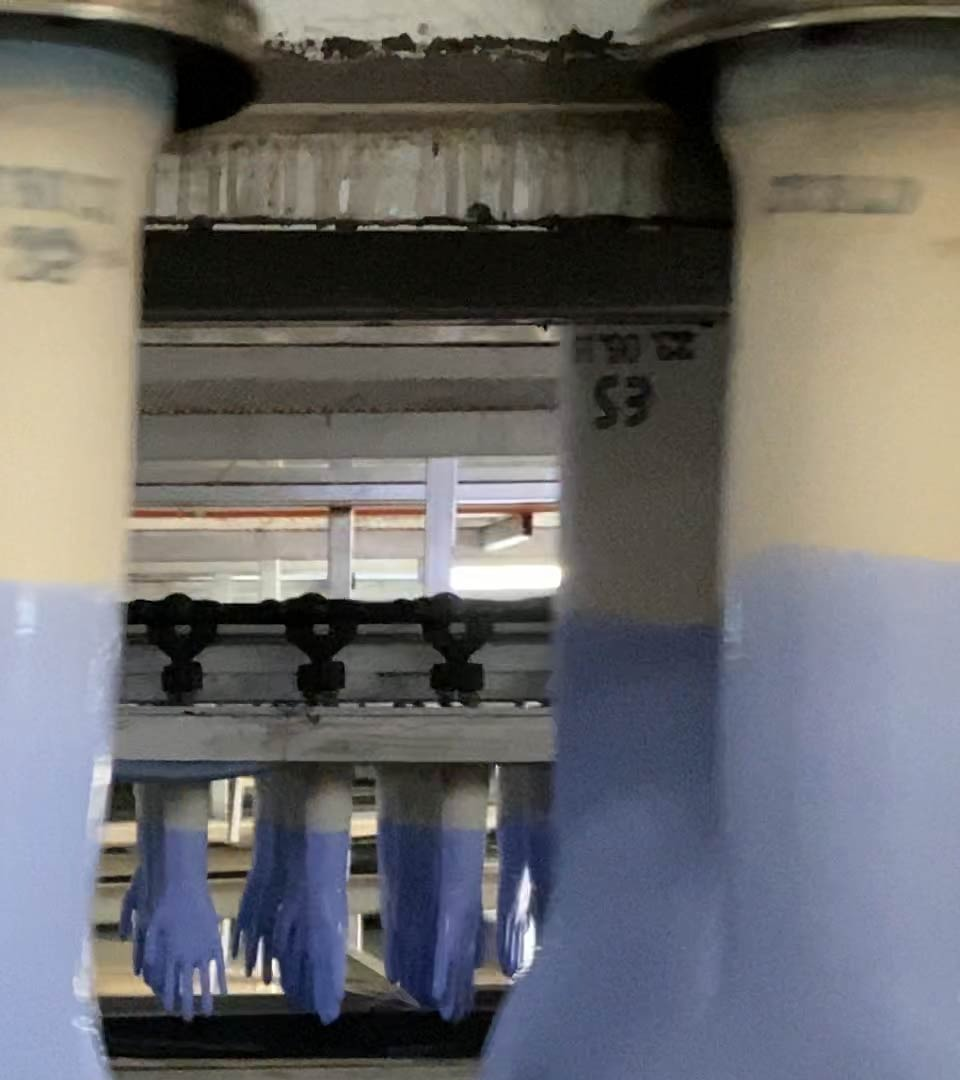glove: (150, 828, 231, 1023)
